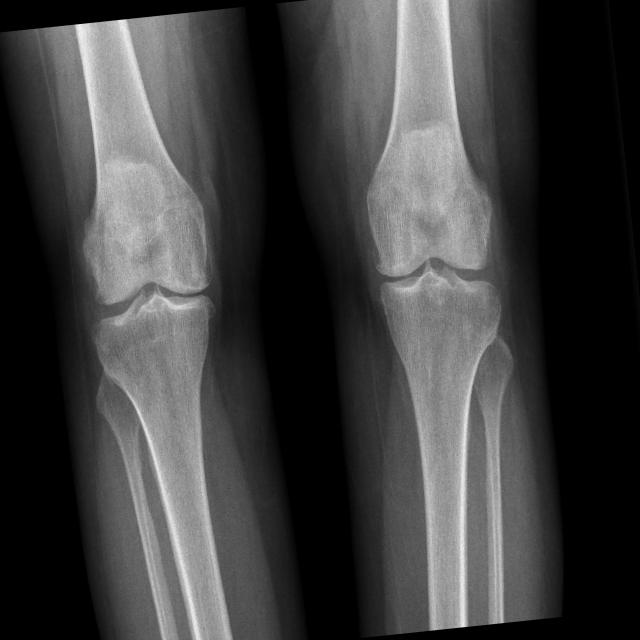Knee: (81, 224, 225, 370), (366, 199, 508, 337)
